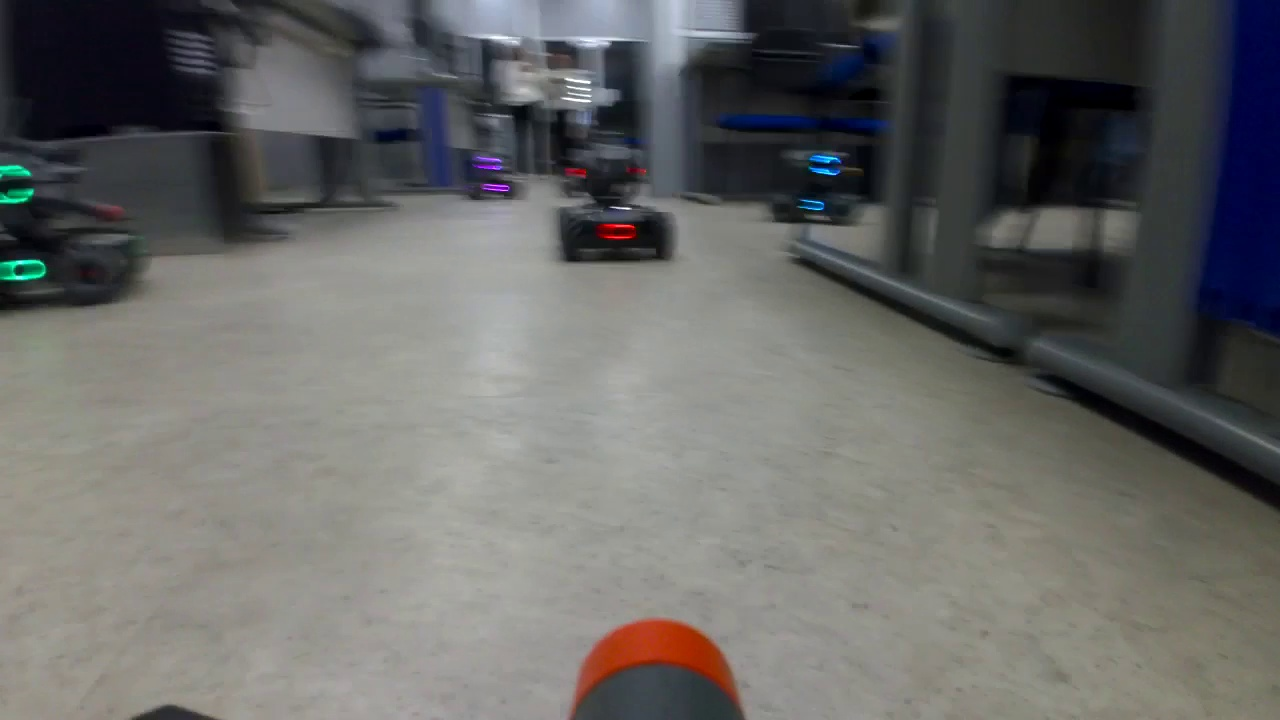robot: (2, 154, 140, 315), (557, 131, 676, 264), (769, 148, 866, 229), (461, 149, 520, 204)
